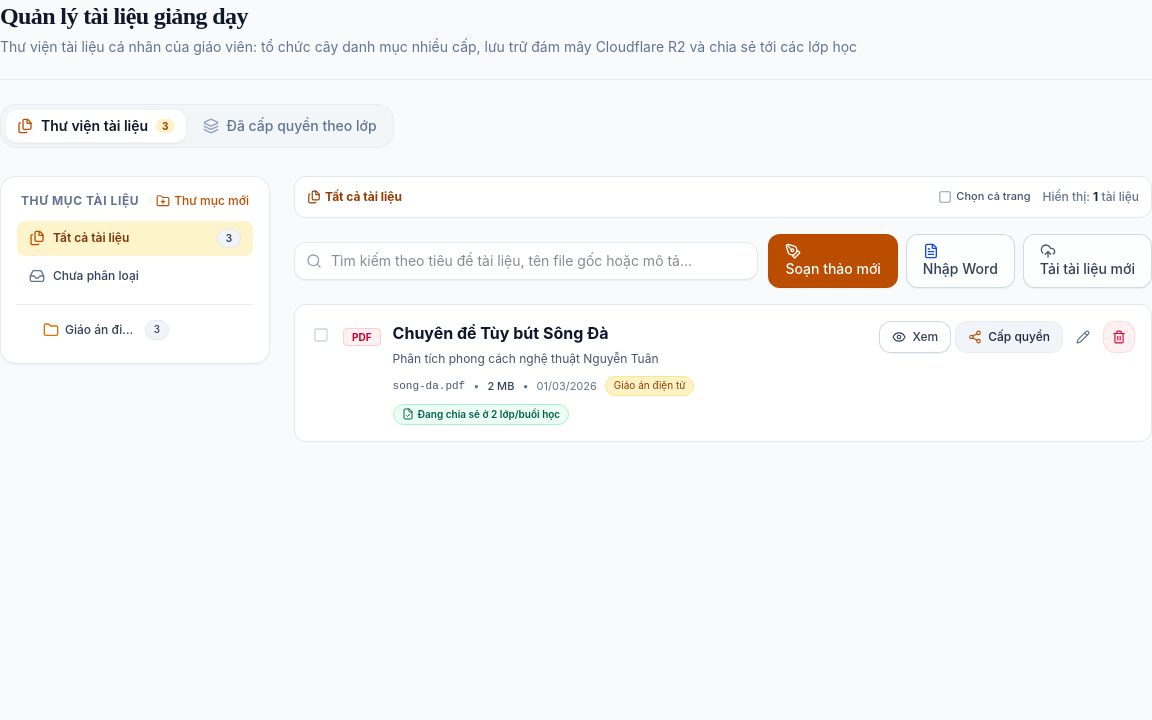
Test: TeacherDocumentsPage › opens upload modal when clicking "Tải tài liệu mới"
Step 1. Click the button "Tải tài liệu mới" → click(1087, 261), box [1023,234,1151,288]
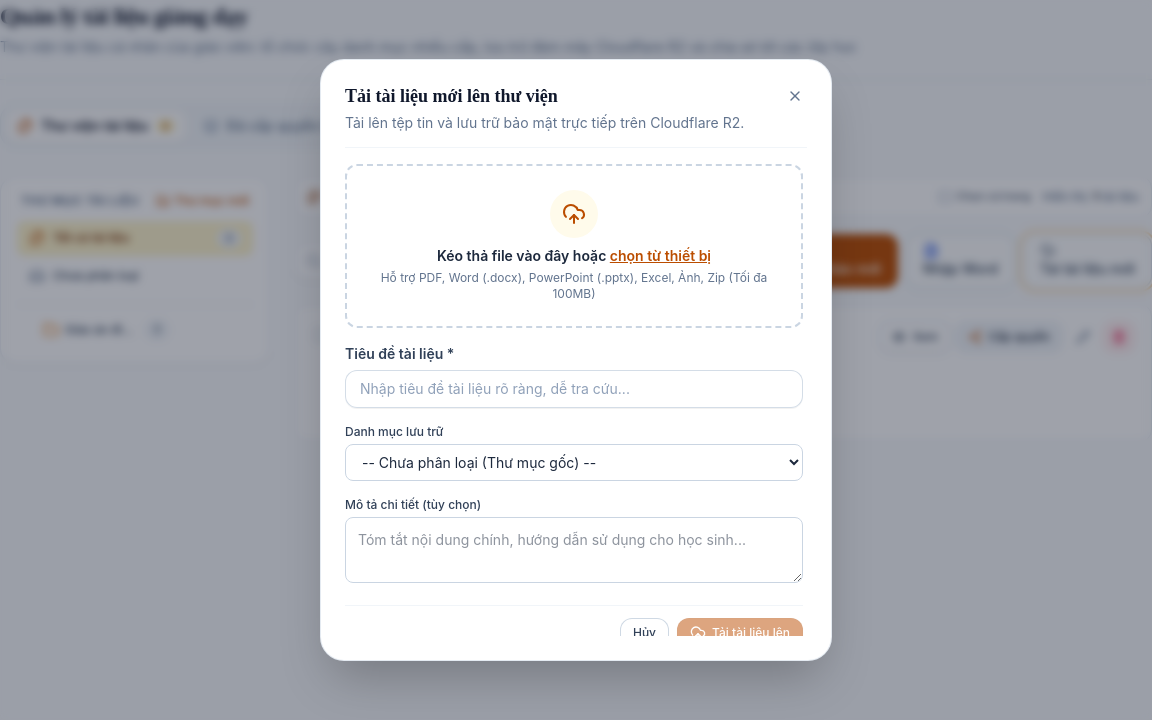
expect the heading "Tải tài liệu mới lên thư viện" is shown: met, box [345,86,558,106]
expect the text "Kéo thả file vào đây hoặc chọn từ thiết bị" is shown: met, box [437,247,711,264]
